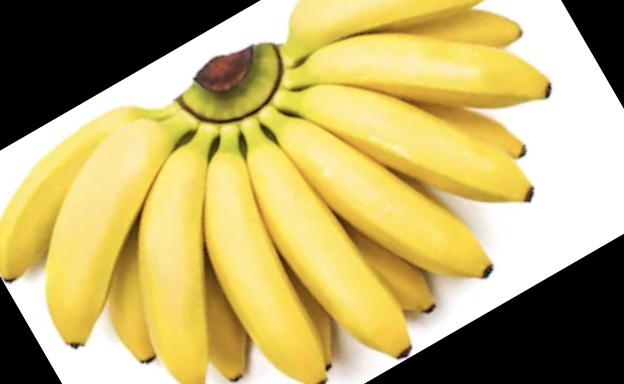Banana Ripe: (4, 3, 624, 374)
